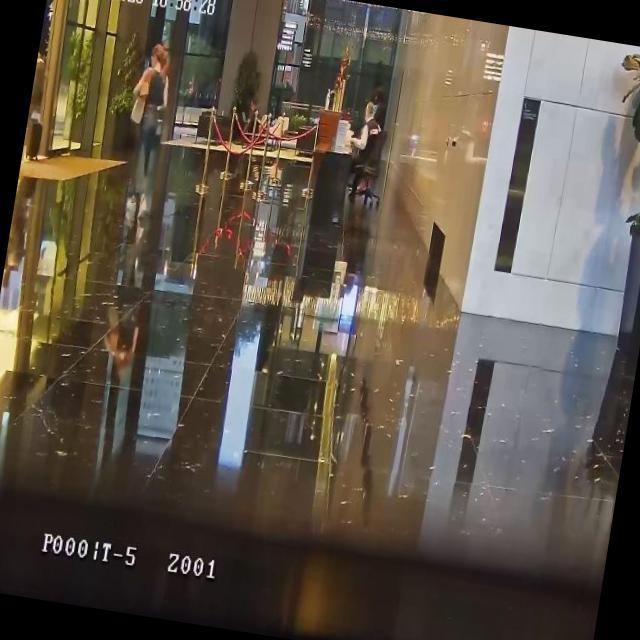person: (114, 40, 177, 221), (342, 100, 386, 204), (21, 53, 47, 164), (244, 99, 264, 135)
